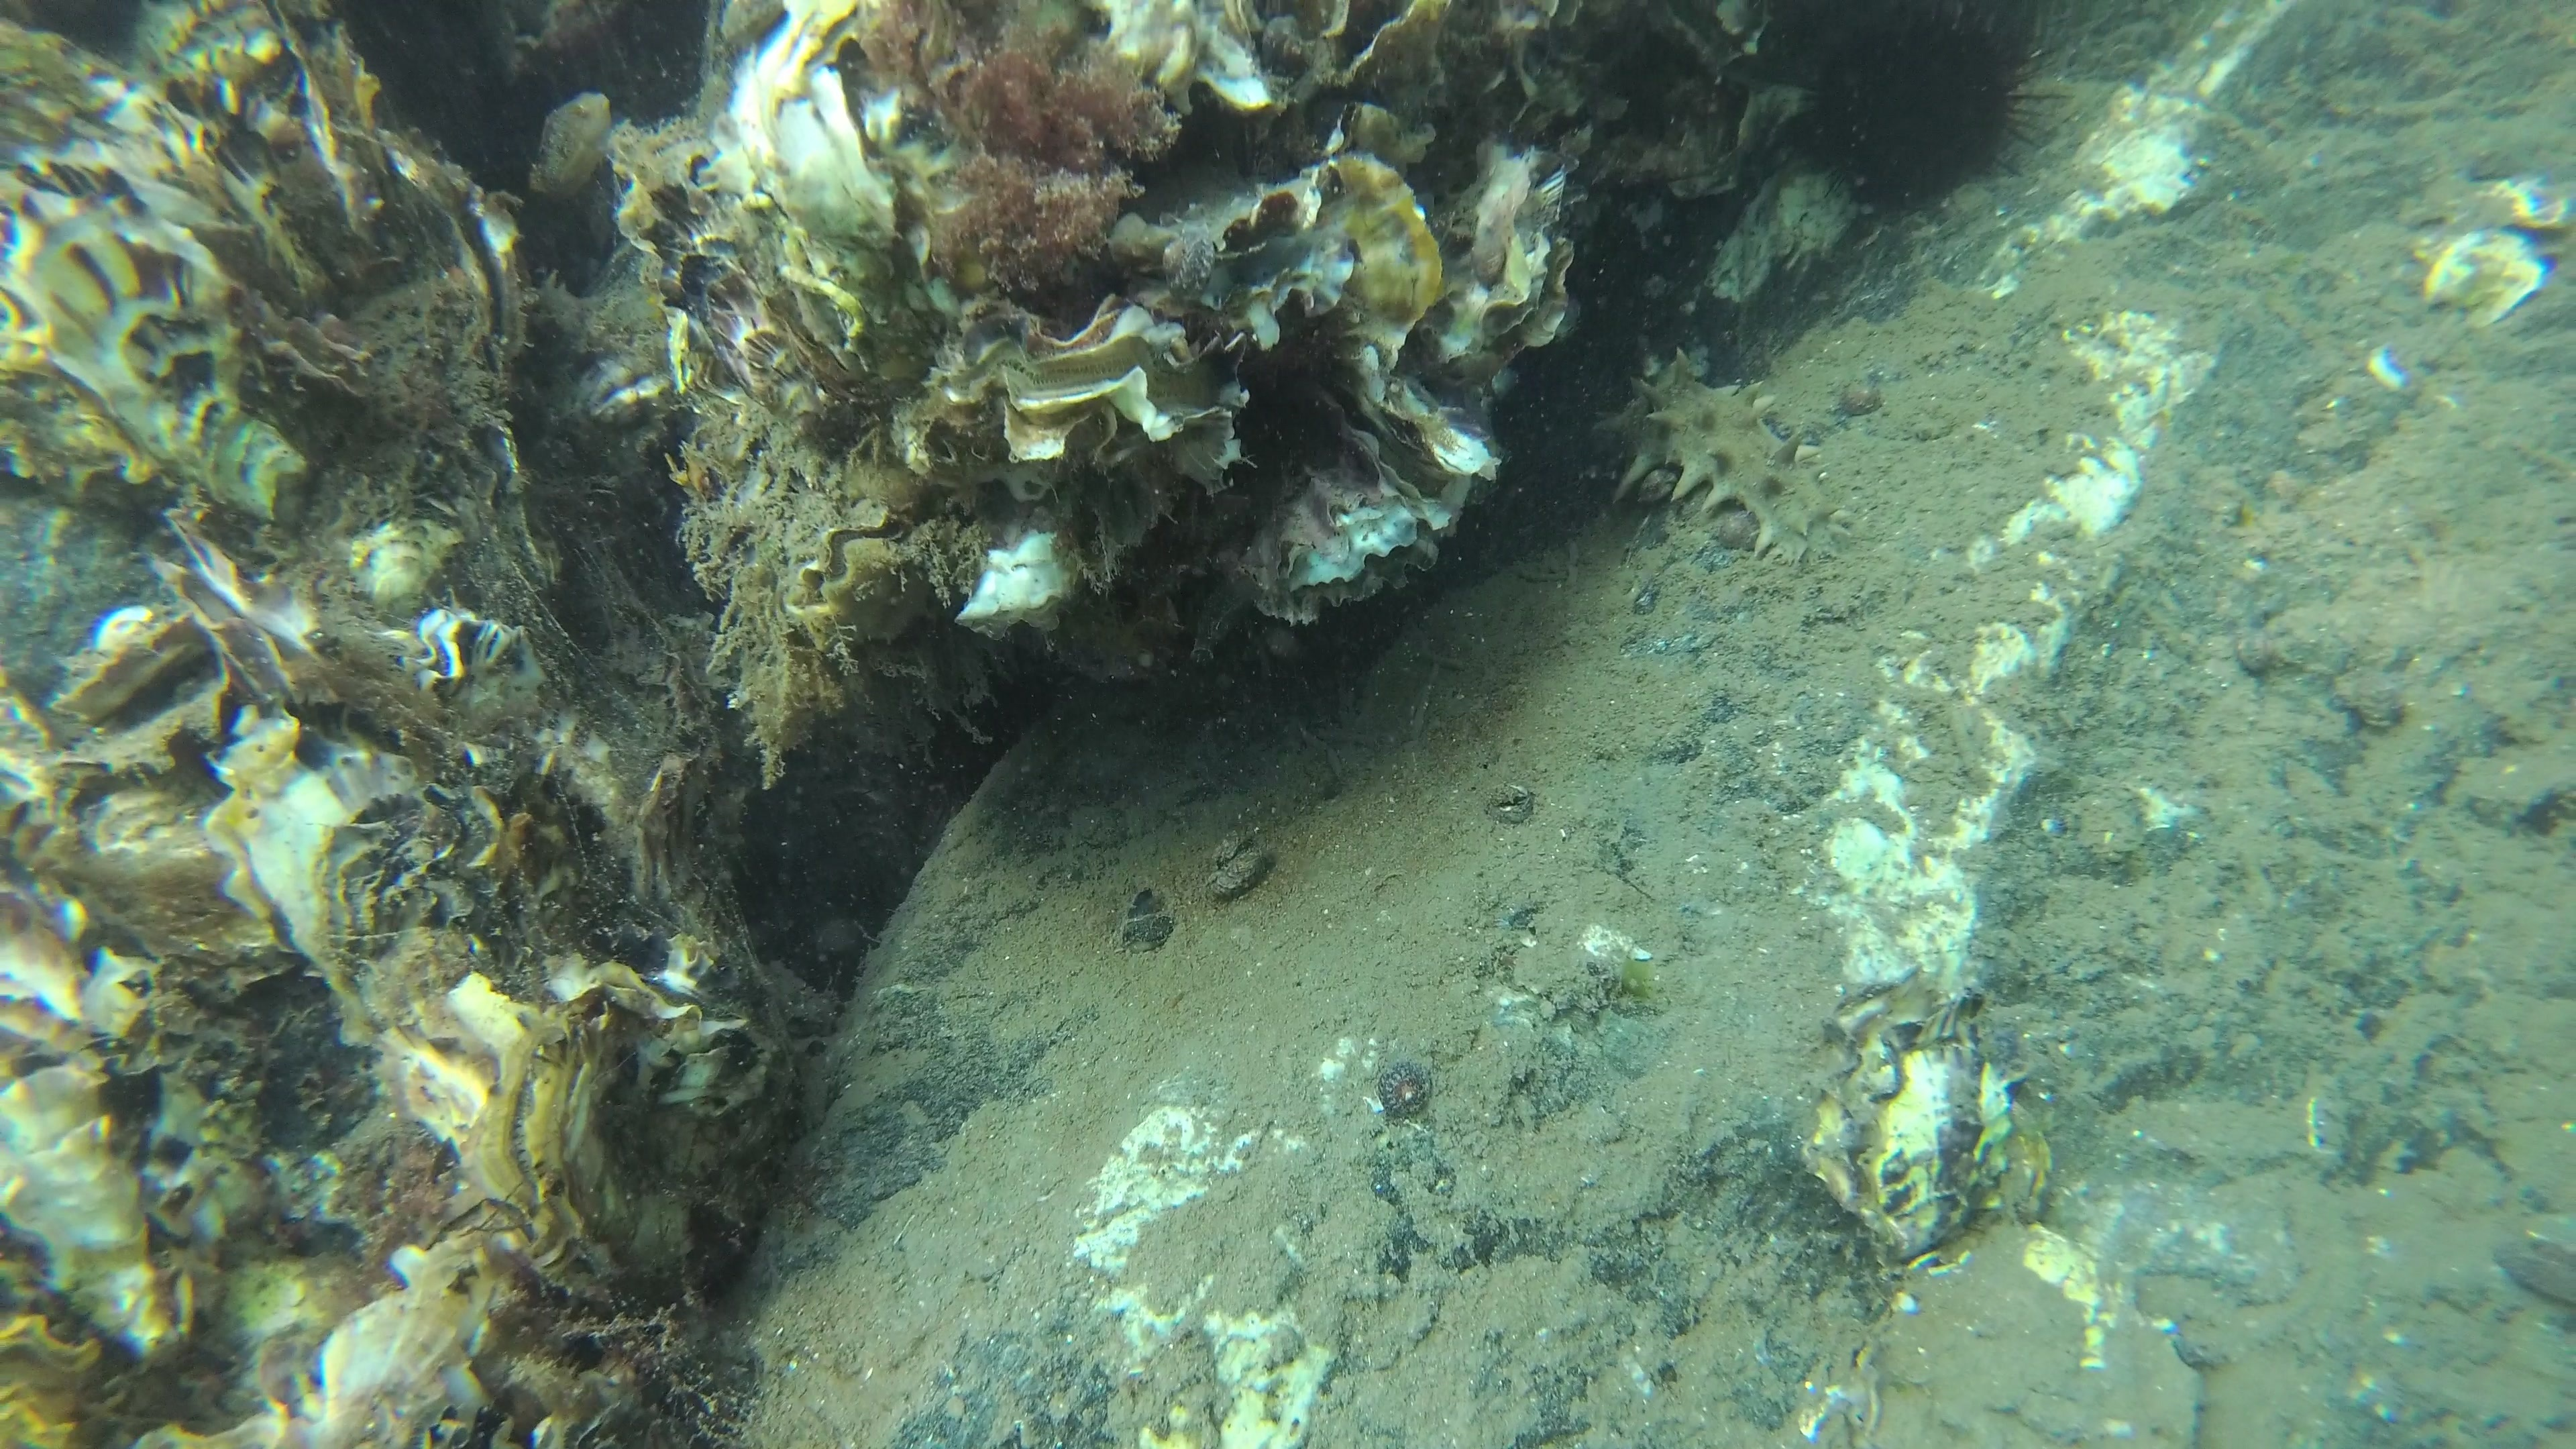echinus: (1753, 0, 2068, 216), (916, 671, 1069, 801)
holothurian: (1587, 343, 1856, 570)
